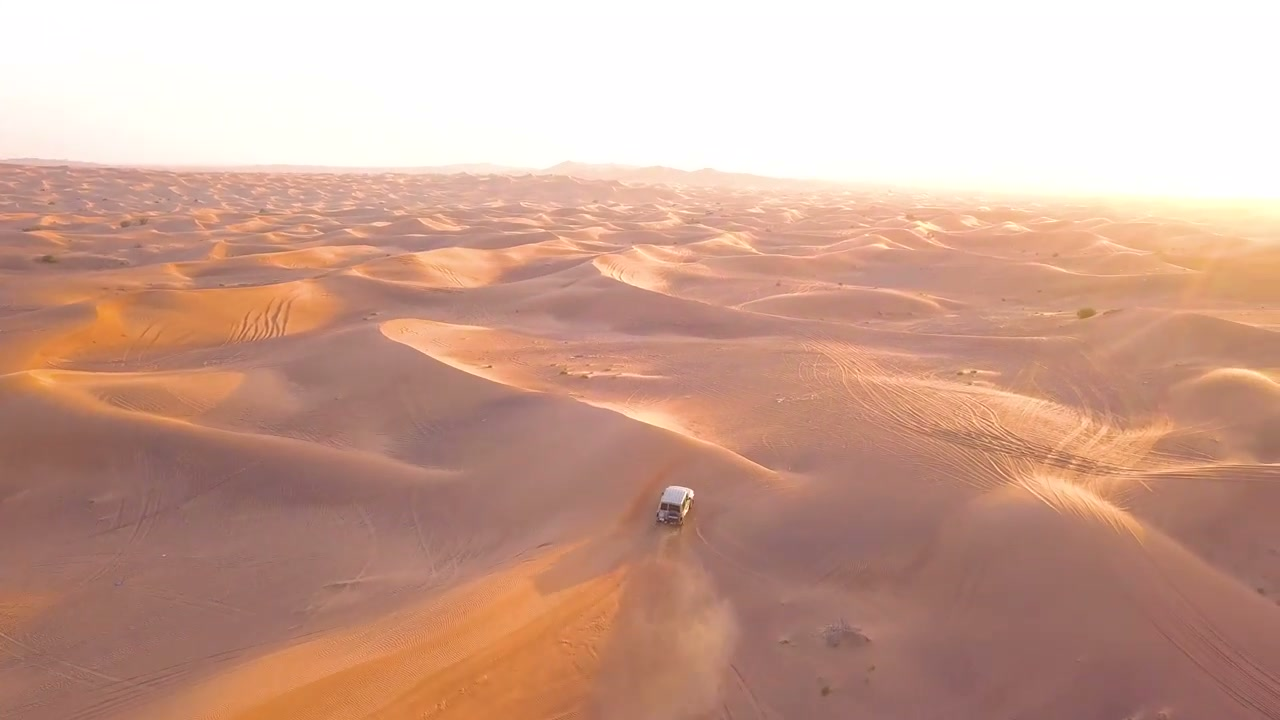vehicle_track: (805, 338, 1172, 486), (805, 338, 1010, 489), (1143, 553, 1279, 719), (66, 642, 266, 719), (79, 452, 162, 587), (223, 292, 295, 344)
